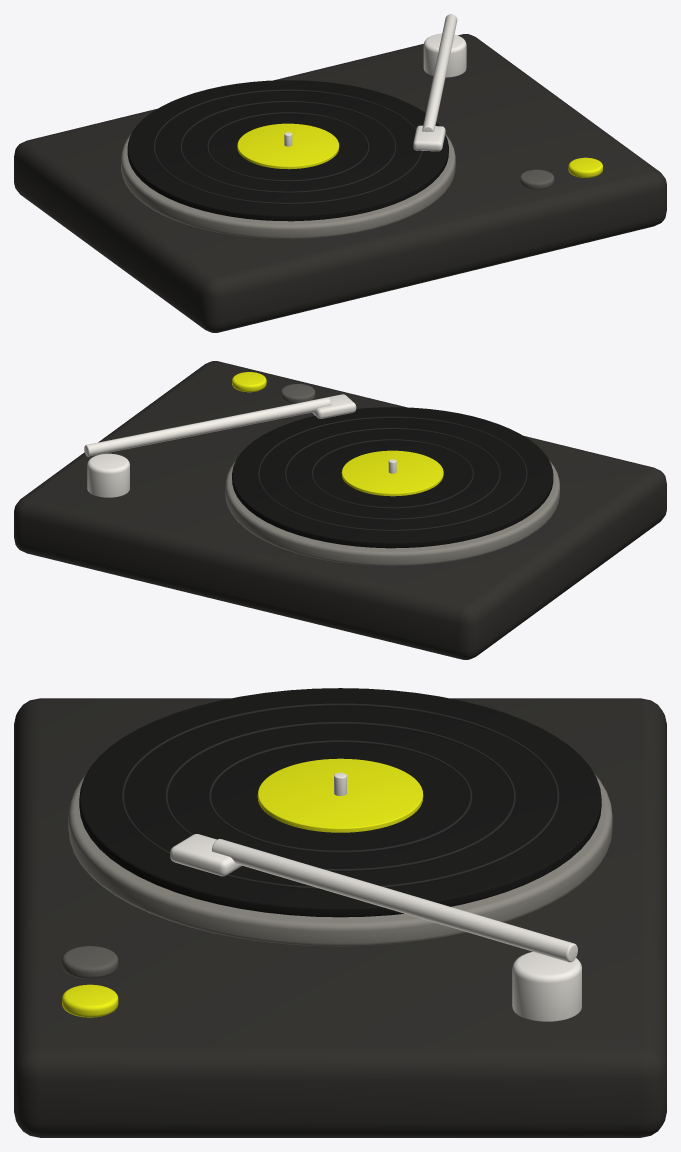
The model's file is player.glb.
3 renders of one model, top to bottom at view 1: azimuth 30°, elevation 25°; view 2: azimuth 150°, elevation 25°; view 3: azimuth 270°, elevation 25°, orthographic. The views are drawn at different scales.
Visible parts, largest first — view 1: box, cyl.001, cyl, cyl.002, cyl.005, tor.002, cyl.004, tor.001, tor, box.001, cyl.007, cyl.006; view 2: box, cyl.001, cyl, cyl.002, cyl.005, cyl.004, tor.002, tor.001, tor, box.001, cyl.006, cyl.007; view 3: box, cyl.001, cyl, cyl.002, cyl.005, cyl.004, tor.002, tor.001, tor, box.001, cyl.006, cyl.007.
Boxes of the visible parts, x1,y1,x2,y2 form: box: [14, 34, 666, 332]; cyl.001: [127, 80, 448, 221]; cyl: [121, 133, 455, 239]; cyl.002: [237, 123, 339, 169]; cyl.005: [422, 14, 457, 131]; tor.002: [153, 89, 422, 204]; cyl.004: [423, 33, 466, 77]; tor.001: [180, 101, 396, 192]; tor: [207, 112, 369, 181]; box.001: [413, 125, 445, 151]; cyl.007: [519, 169, 554, 189]; cyl.006: [568, 157, 602, 177]; box: [14, 361, 666, 659]; cyl.001: [232, 407, 553, 548]; cyl: [225, 460, 559, 566]; cyl.002: [341, 450, 443, 496]; cyl.005: [84, 397, 331, 456]; cyl.004: [87, 453, 129, 497]; tor.002: [258, 416, 527, 531]; tor.001: [284, 428, 500, 520]; tor: [311, 439, 473, 508]; box.001: [311, 394, 356, 418]; cyl.006: [232, 372, 266, 392]; cyl.007: [280, 384, 315, 403]; box: [14, 698, 666, 1137]; cyl.001: [79, 688, 601, 917]; cyl: [68, 775, 612, 946]; cyl.002: [257, 758, 423, 832]; cyl.005: [212, 839, 577, 962]; cyl.004: [512, 951, 581, 1021]; tor.002: [121, 703, 559, 889]; tor.001: [165, 722, 515, 871]; tor: [208, 740, 472, 853]; box.001: [170, 834, 242, 876]; cyl.006: [62, 984, 118, 1017]; cyl.007: [62, 946, 118, 978].
Bounding box in the file's own units: 4 × 0.825 × 3.
